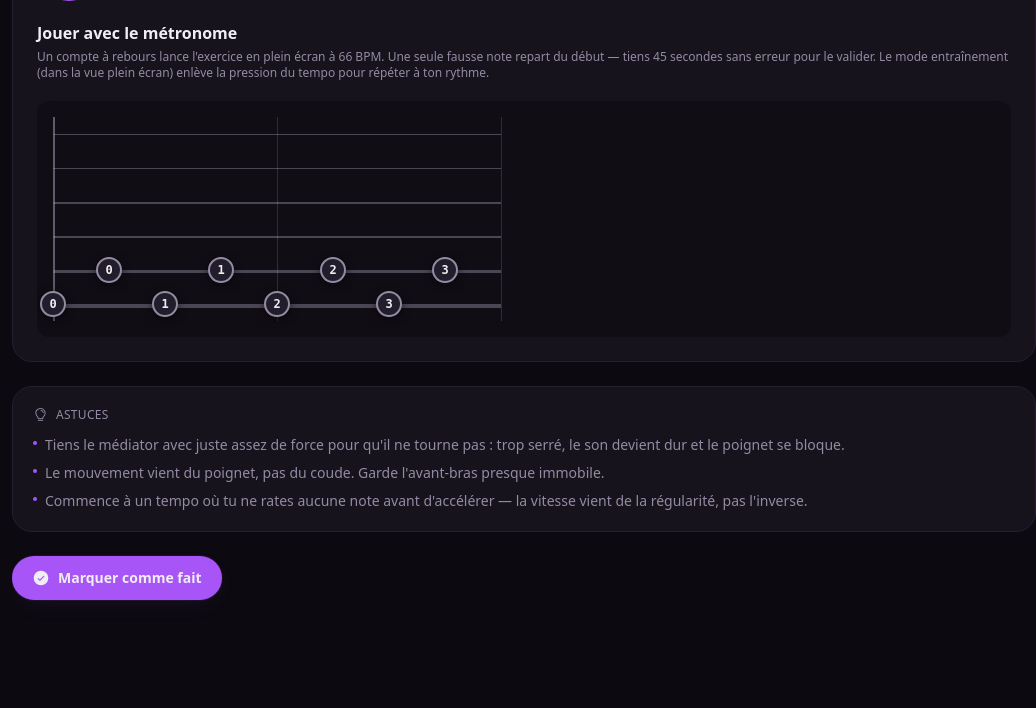
Scenario: ExerciseDetailPage completion › "Annuler" undoes today's completion so the exercise can be redone
Later steps or results of the test are not shown.
(page scrolled)
Click the button "Marquer comme fait" at (117,578), box [12, 556, 222, 600]
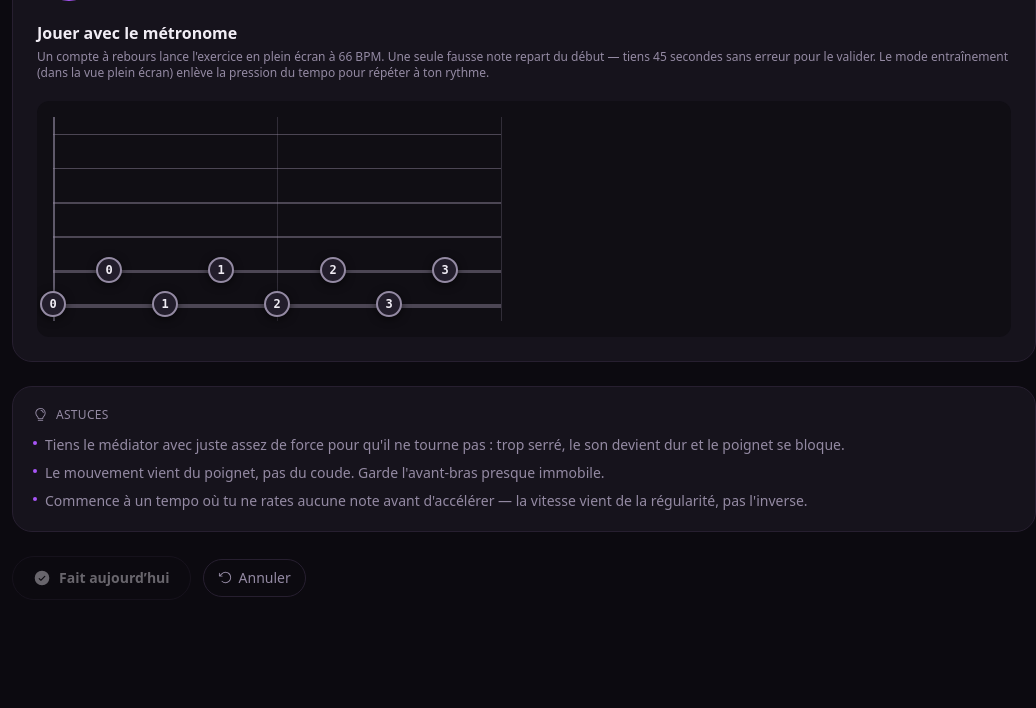
Check: the button "Fait aujourd’hui" is disabled, box [12, 556, 191, 600]
Click the button "Annuler" at (254,578), box [203, 558, 306, 596]
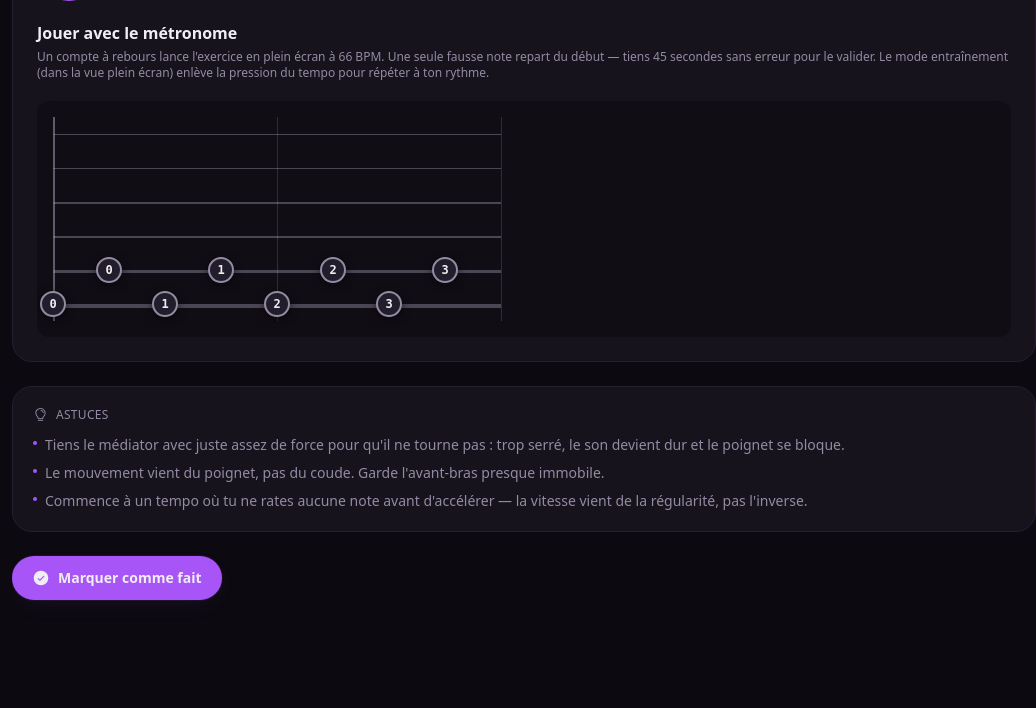
Check: the button "Marquer comme fait" is enabled, box [12, 556, 222, 600]
Check: the button "Annuler" is gone
